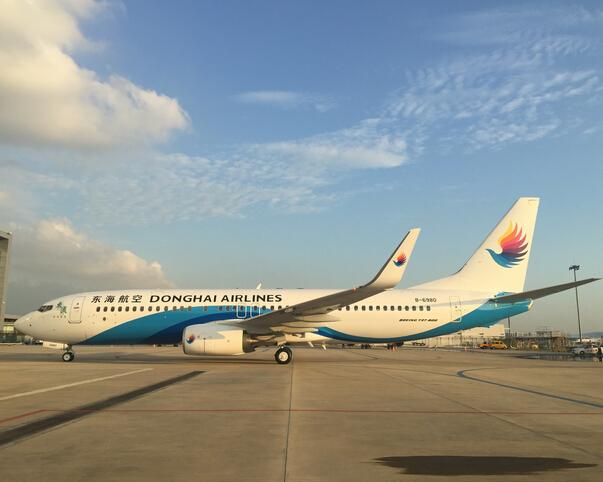airplane: (12, 195, 597, 365)
